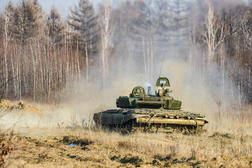t72: (93, 87, 207, 135)
